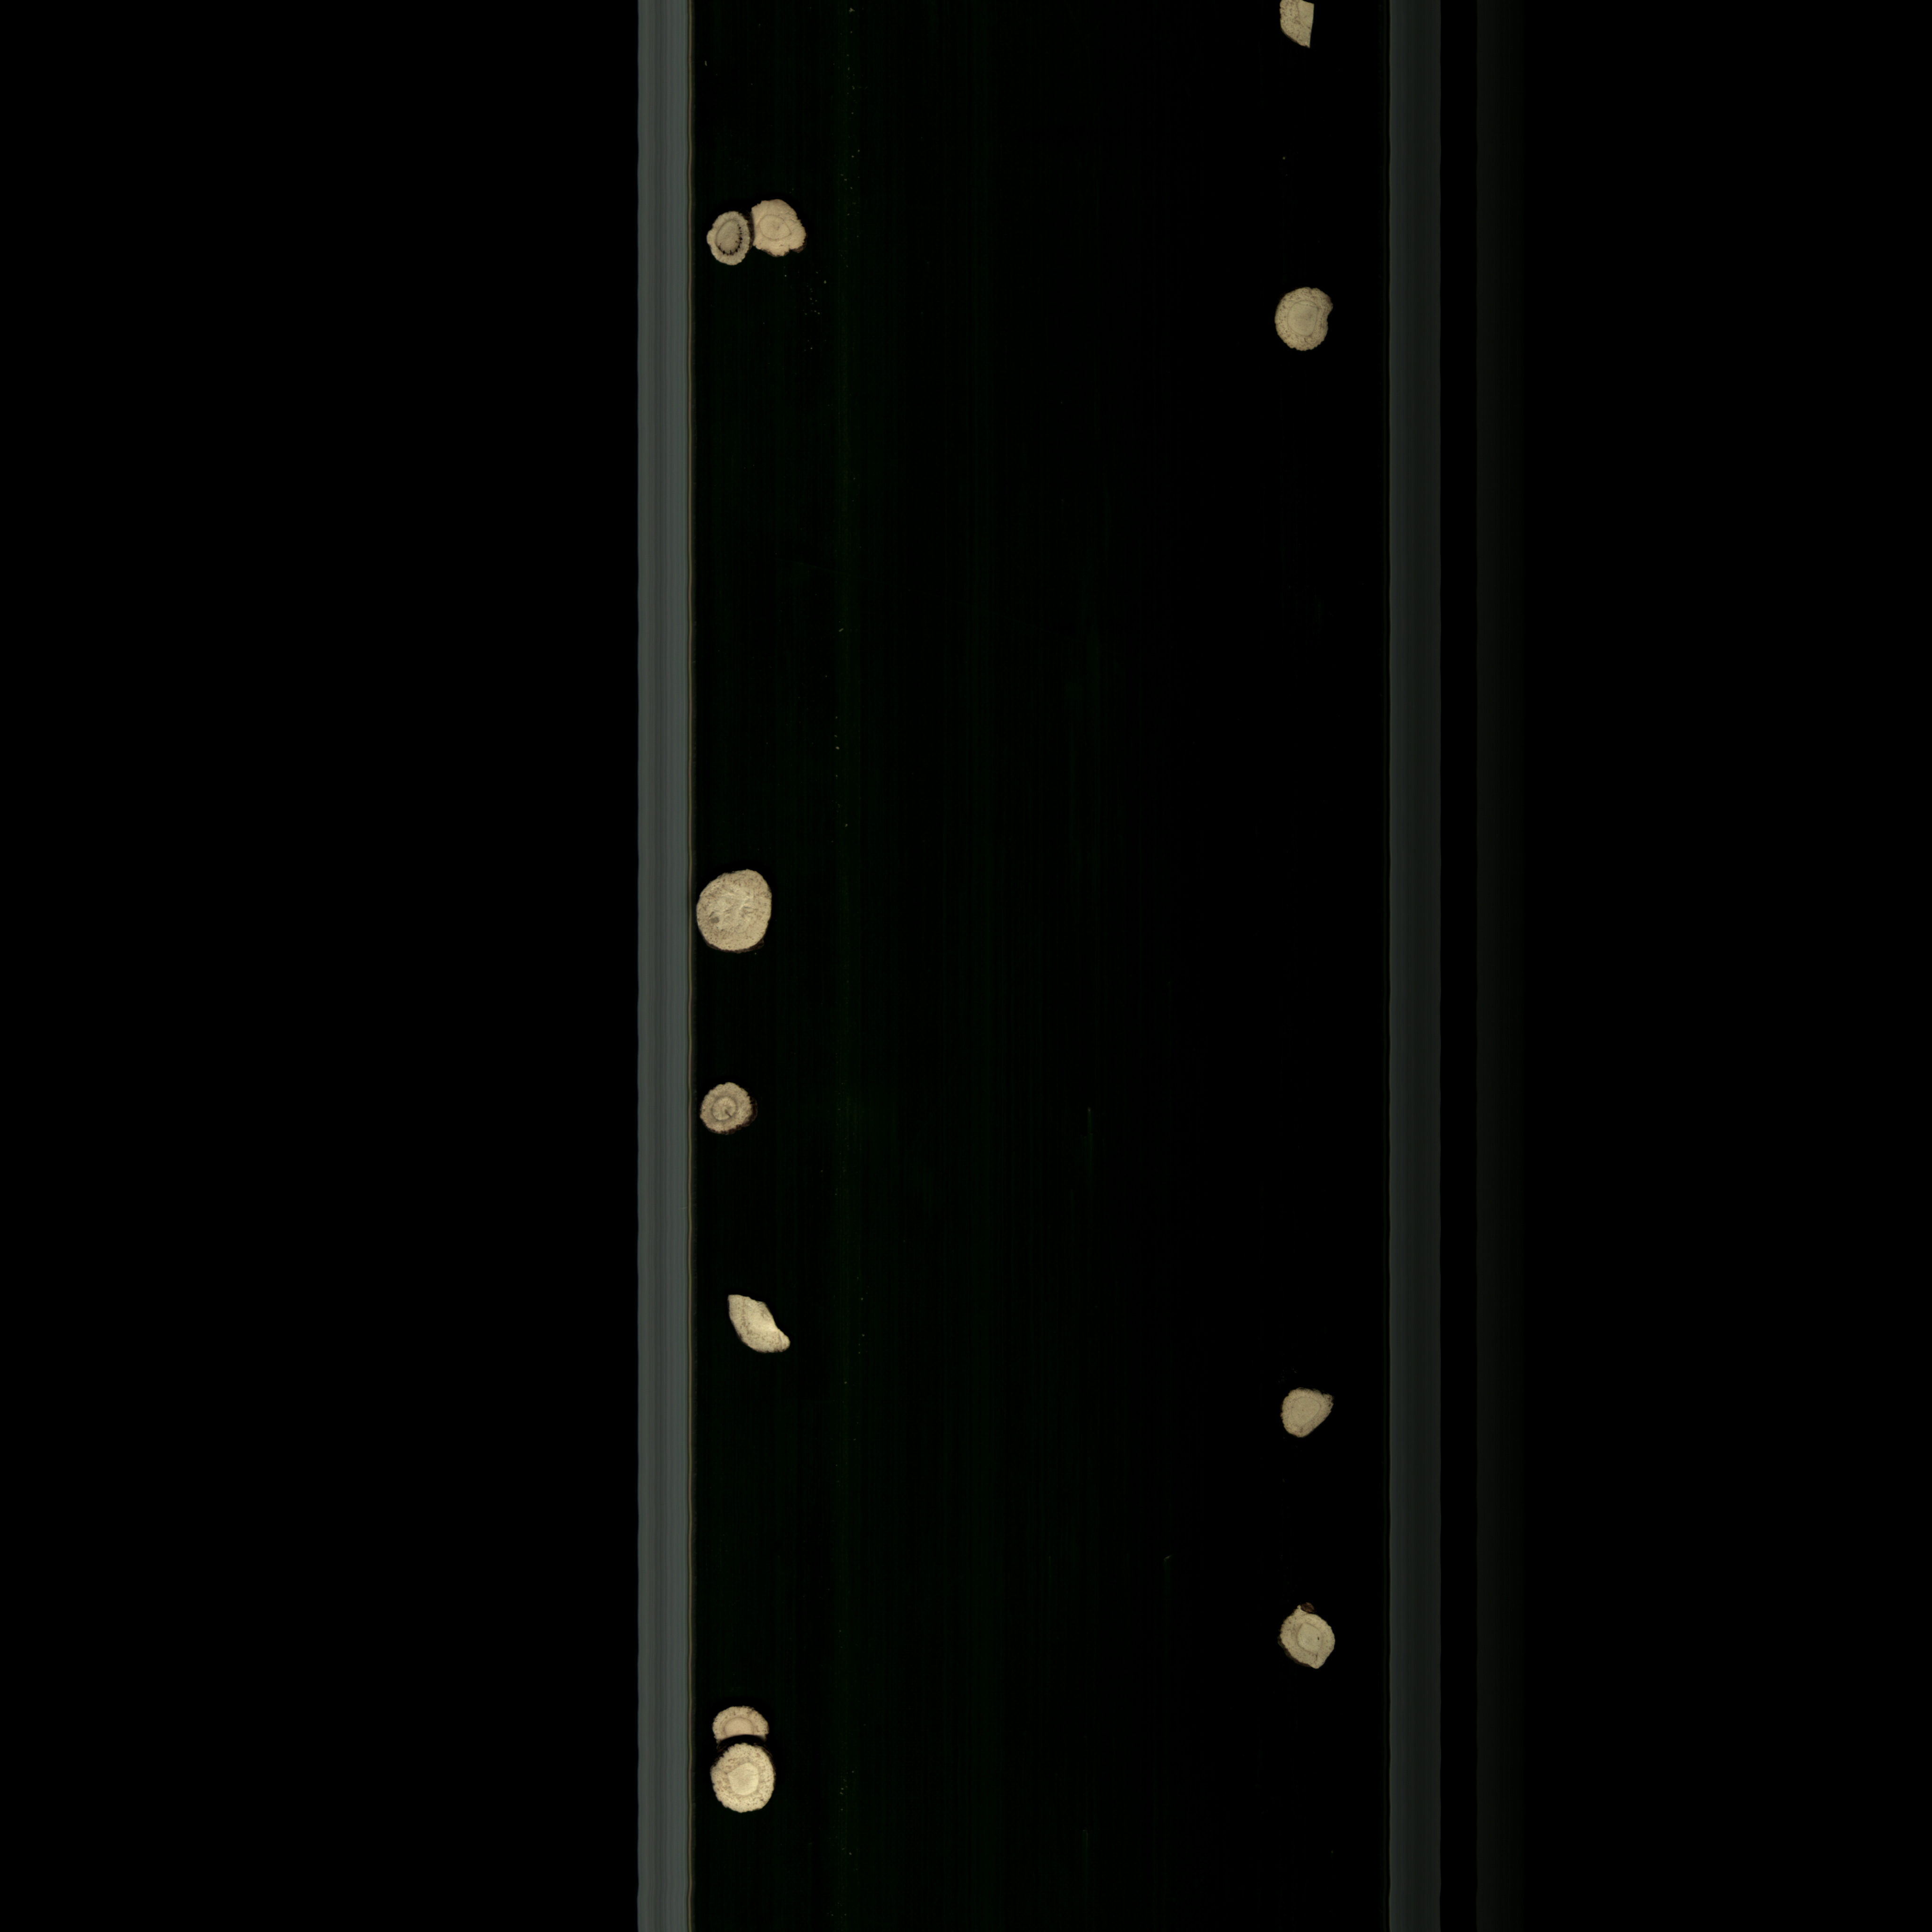debris: (722, 1288, 803, 1364), (747, 196, 826, 264), (699, 1700, 791, 1746), (1269, 0, 1322, 60)
distortion: (1265, 1596, 1348, 1681), (1276, 1384, 1346, 1449)
hole: (695, 205, 759, 272)
moldy: (697, 1072, 766, 1139)
